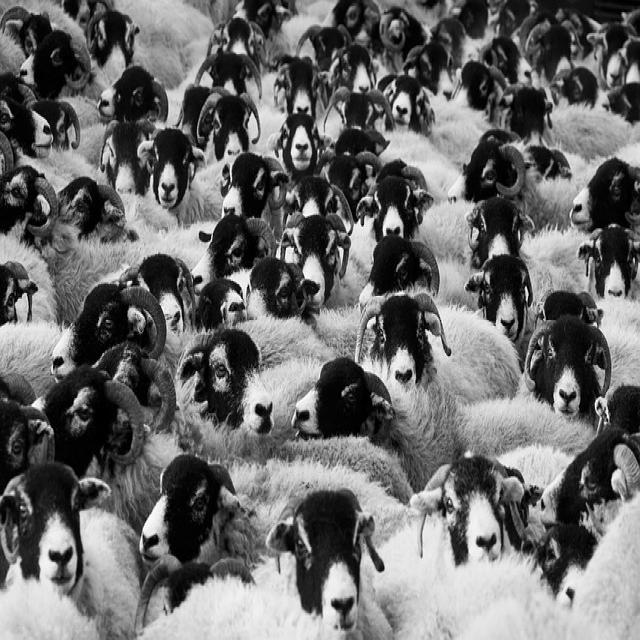goat: (292, 357, 594, 491), (141, 488, 392, 640), (0, 462, 141, 638), (41, 366, 179, 532), (360, 293, 519, 404), (140, 454, 254, 564), (525, 315, 611, 422), (191, 214, 276, 296), (281, 214, 350, 307), (359, 237, 440, 309), (248, 257, 319, 320)
